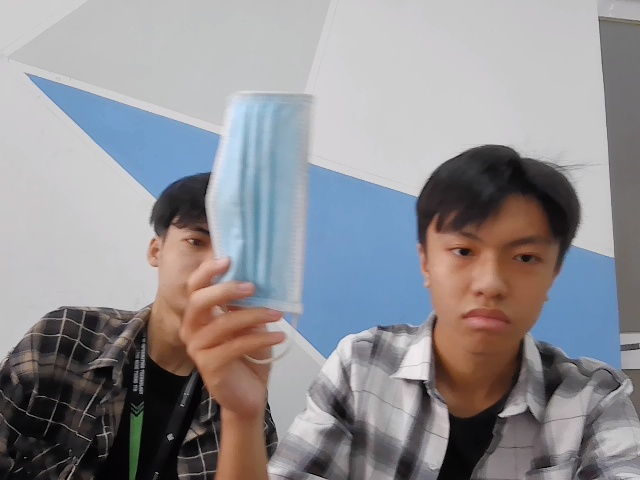human: (410, 131, 585, 349)
mask: (196, 81, 326, 322)
